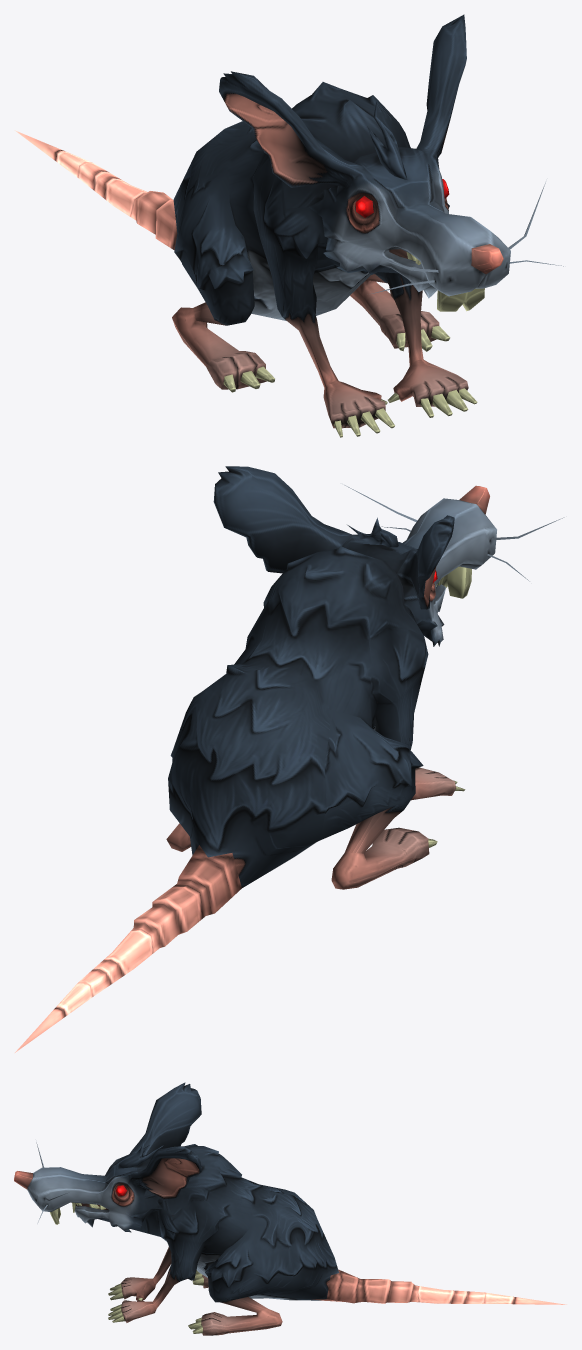
The model's file is Rat.glb.
The picture shows the model from 3 angles, top to bottom: view 1: azimuth 30°, elevation 25°; view 2: azimuth 150°, elevation 25°; view 3: azimuth 270°, elevation 25°; orthographic projection. The views are drawn at different scales.
Visible parts, largest first — view 1: Rat:rat_a.1; view 2: Rat:rat_a.1; view 3: Rat:rat_a.1.
Part boxes in pixels (x1,y1,x2,y2): Rat:rat_a.1: [14, 14, 563, 437]; Rat:rat_a.1: [15, 466, 564, 1052]; Rat:rat_a.1: [14, 1082, 566, 1335].
Size of the model in its own units: 0.1504 by 0.2006 by 0.5239.
1 material, 1 textured.
